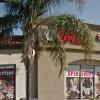Palm tree: (13, 4, 65, 99)
